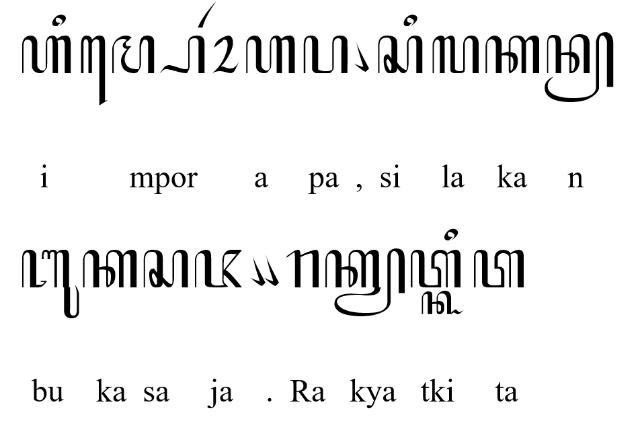-n: (544, 31, 614, 103)
_k: (421, 290, 464, 316)
_p: (160, 34, 207, 74)
_r1: (197, 1, 217, 28)
bu: (21, 249, 80, 319)
e1: (80, 36, 108, 106)
h: (21, 34, 71, 74), (246, 35, 296, 75)
i: (403, 13, 417, 27), (444, 228, 458, 242), (52, 13, 66, 26)
j: (194, 248, 242, 290)
k: (83, 248, 139, 290), (484, 36, 540, 74)
kom: (354, 40, 370, 72), (250, 256, 266, 286), (264, 255, 278, 287)
ky: (326, 248, 406, 318)
l: (432, 36, 480, 74)
m: (112, 35, 154, 75)
o: (213, 35, 239, 73)
p: (303, 35, 349, 74)
r: (286, 249, 320, 289)
s: (143, 249, 189, 289), (377, 35, 423, 74)
t: (411, 248, 462, 288), (474, 250, 526, 288)
